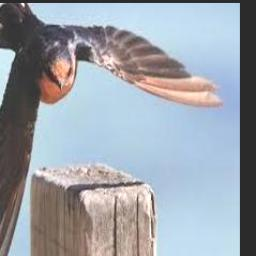Swallow: (0, 3, 223, 256)
